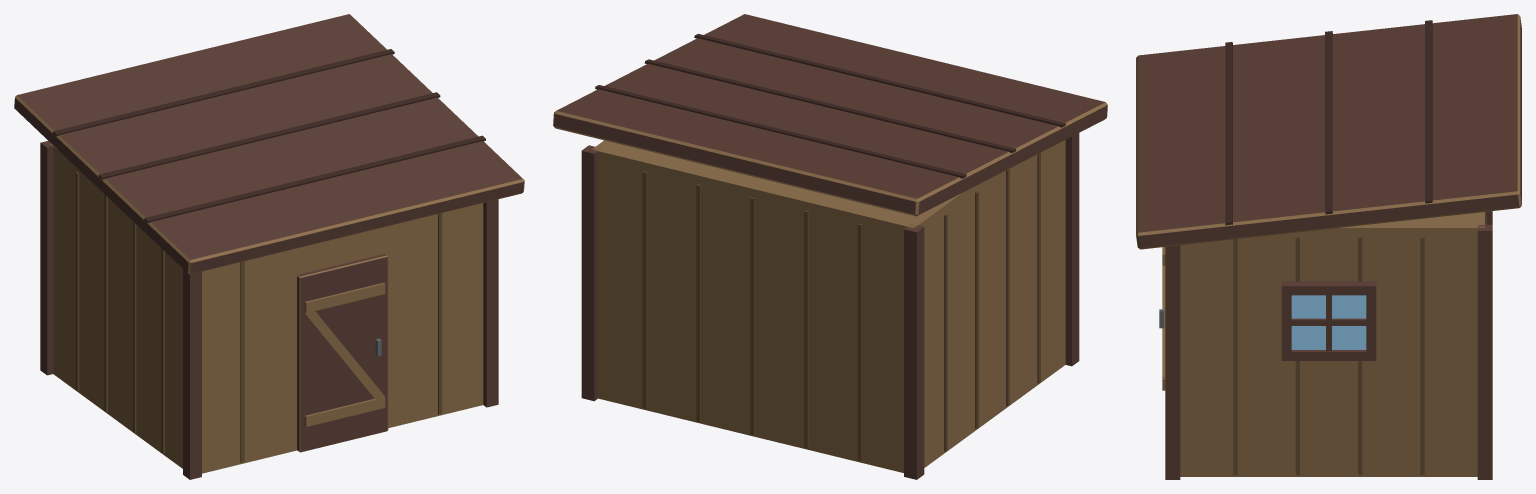
The model's file is shed.glb.
3 views of the same model, side by side, from view 1: azimuth 30°, elevation 25°; view 2: azimuth 150°, elevation 25°; view 3: azimuth 270°, elevation 25° (orthographic). The views are drawn at different scales.
Visible parts, largest first — view 1: shed-m; view 2: shed-m; view 3: shed-m.
Boxes of the visible parts, x1,y1,x2,y2 form: shed-m: (14,14,524,479); shed-m: (553,14,1107,479); shed-m: (1136,14,1521,479).
Size of the model in its own units: 3.42 by 2.61 by 3.09.
